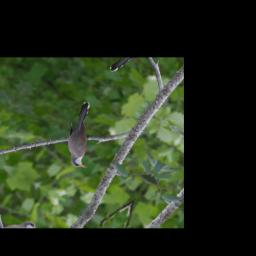Cuckoo: (46, 99, 122, 172)
